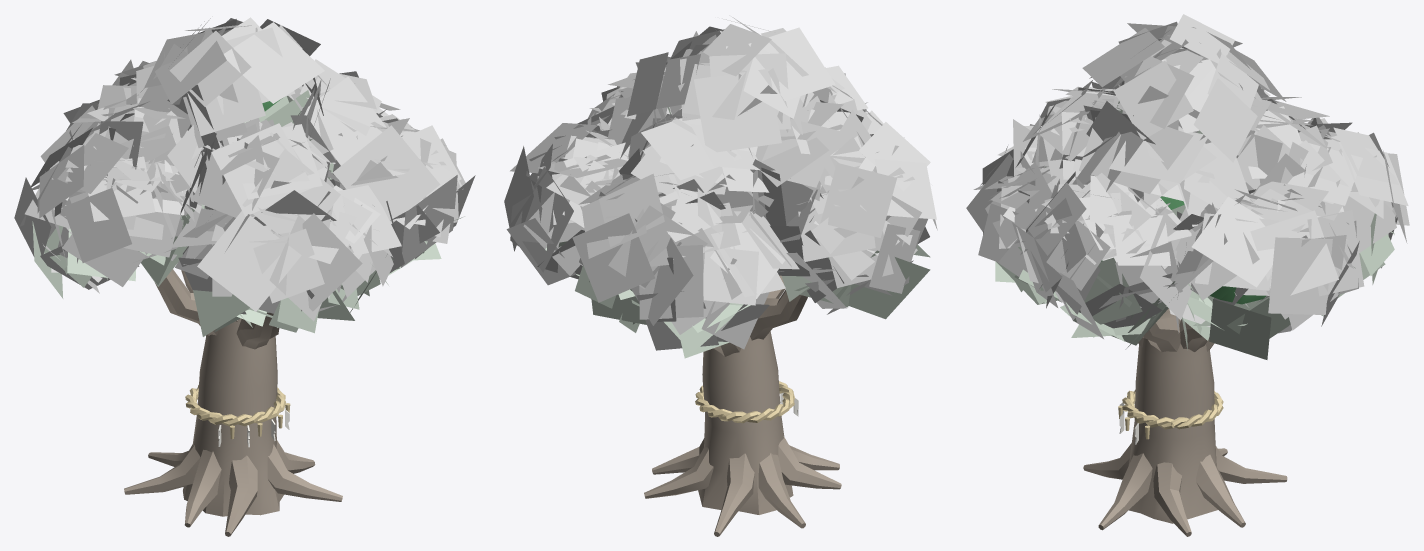
Rendered from tree_shinboku.glb.
3 views of the same model, side by side, from view 1: azimuth 30°, elevation 25°; view 2: azimuth 150°, elevation 25°; view 3: azimuth 270°, elevation 25° (orthographic).
Visible parts, largest first — view 1: tree_shinboku_body; view 2: tree_shinboku_body; view 3: tree_shinboku_body.
Part boxes in pixels (x1,y1,x2,y2): tree_shinboku_body: (14,17,475,536); tree_shinboku_body: (504,15,937,536); tree_shinboku_body: (966,14,1409,536).
Size of what is drawn, in the model's own units: 10.96 by 12.59 by 10.77.
